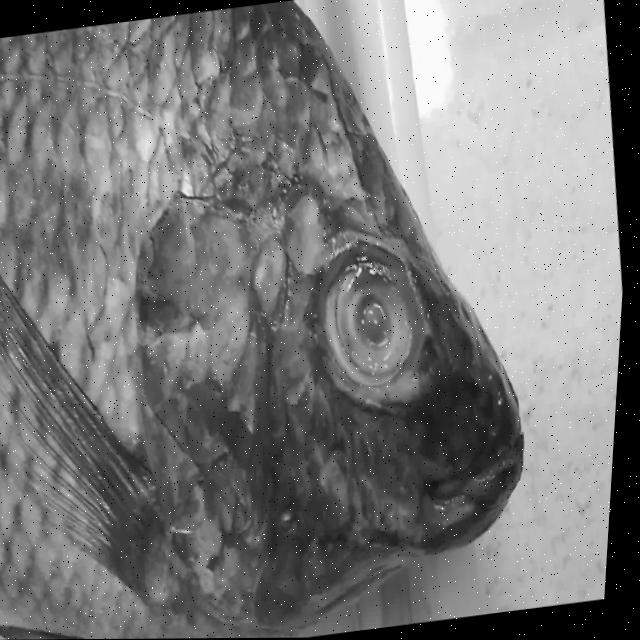Non-Fresh: (0, 12, 348, 639), (312, 242, 438, 402)
